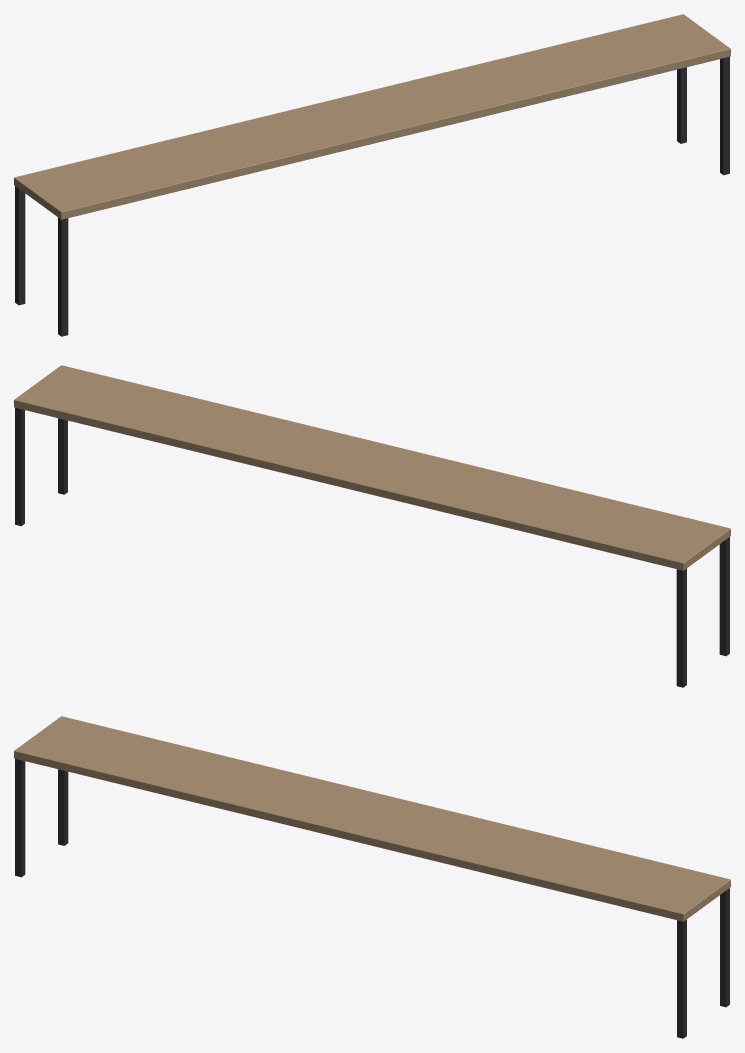
Rendered from bench.glb.
The picture shows the model from 3 angles, top to bottom: view 1: azimuth 30°, elevation 25°; view 2: azimuth 150°, elevation 25°; view 3: azimuth 330°, elevation 25°; orthographic projection.
Parts seen in each view (by area): view 1: Bench; view 2: Bench; view 3: Bench.
Part boxes in pixels (left/top/right/bottom): Bench: left=14, top=14, right=730, bottom=336; Bench: left=14, top=365, right=730, bottom=687; Bench: left=14, top=716, right=730, bottom=1038.
Size of the model in its own units: 11.88 by 2.12 by 1.46.
